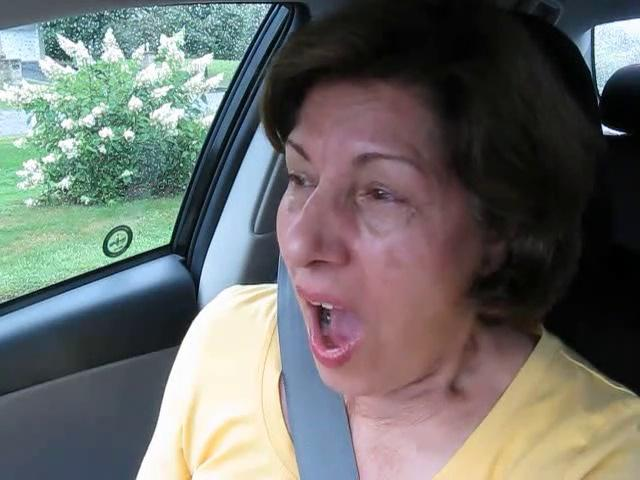close_eyeL: (279, 165, 329, 200)
close_eyeR: (354, 165, 415, 223)
yawn: (281, 293, 383, 374)
